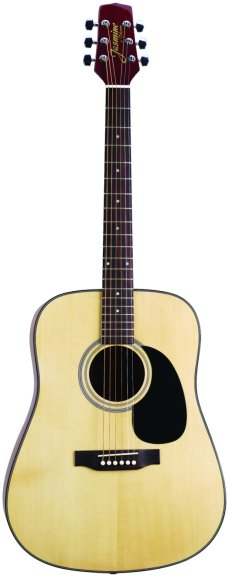guitar: (1, 3, 227, 574)
